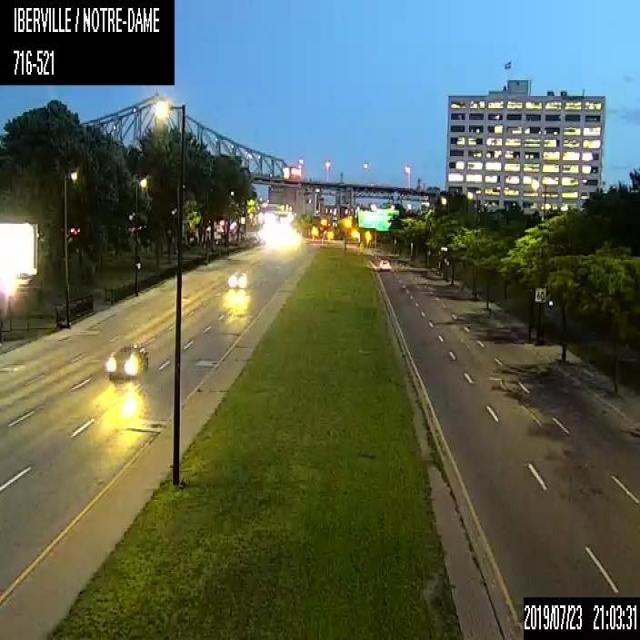vehicle: (106, 342, 148, 377), (228, 267, 250, 288), (377, 256, 392, 271)
